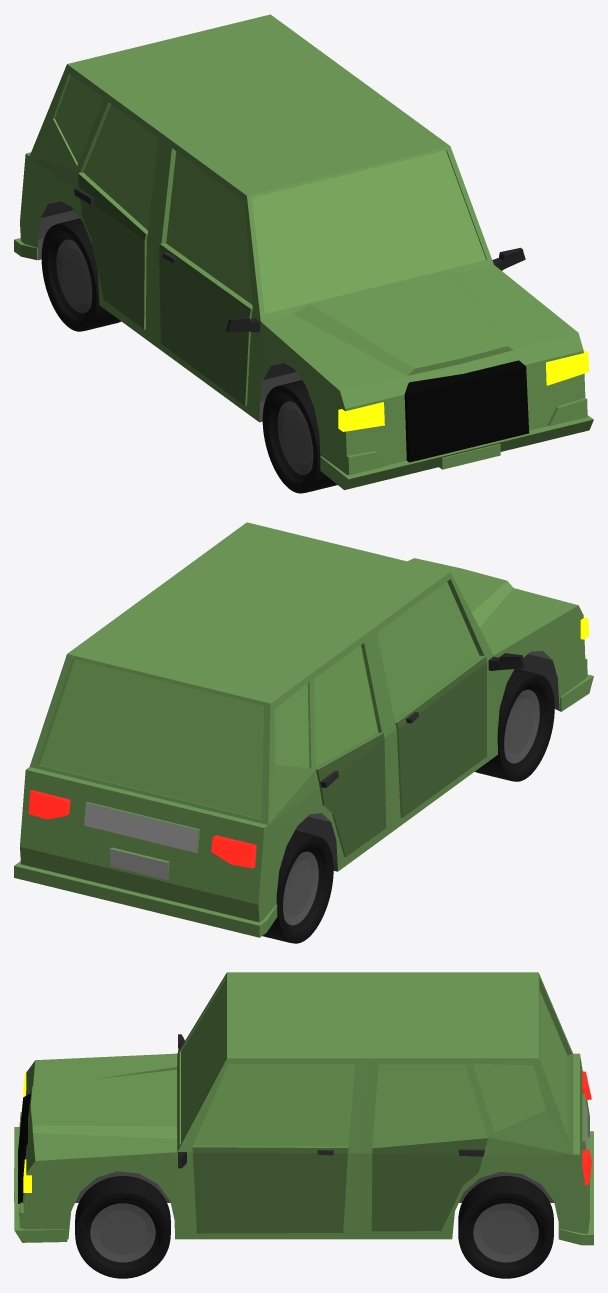
Rendered from simple_car_break_low_poly.glb.
3 views of the same model, one above another, from view 1: azimuth 30°, elevation 25°; view 2: azimuth 150°, elevation 25°; view 3: azimuth 270°, elevation 25° (orthographic). The views are drawn at different scales.
Visible parts, largest first — view 1: SimpleBreakCar_Body_6, SimpleBreakCar_Body_Tire_BR_3, SimpleBreakCar_Body_Tire_FR_5; view 2: SimpleBreakCar_Body_6, SimpleBreakCar_Body_Tire_FR_5, SimpleBreakCar_Body_Tire_BR_3; view 3: SimpleBreakCar_Body_6, SimpleBreakCar_Body_Tire_FL_4, SimpleBreakCar_Body_Tire_BL_2.
Boxes of the visible parts, bbox=[...] form: SimpleBreakCar_Body_6: bbox=[14, 14, 593, 490]; SimpleBreakCar_Body_Tire_BR_3: bbox=[41, 218, 121, 331]; SimpleBreakCar_Body_Tire_FR_5: bbox=[262, 380, 337, 493]; SimpleBreakCar_Body_6: bbox=[14, 522, 593, 937]; SimpleBreakCar_Body_Tire_FR_5: bbox=[475, 669, 554, 781]; SimpleBreakCar_Body_Tire_BR_3: bbox=[262, 830, 333, 943]; SimpleBreakCar_Body_6: bbox=[14, 972, 593, 1245]; SimpleBreakCar_Body_Tire_FL_4: bbox=[75, 1176, 170, 1278]; SimpleBreakCar_Body_Tire_BL_2: bbox=[458, 1176, 553, 1278].
Size of what is drawn, in the model's own units: 2.1 by 1.66 by 4.1.
